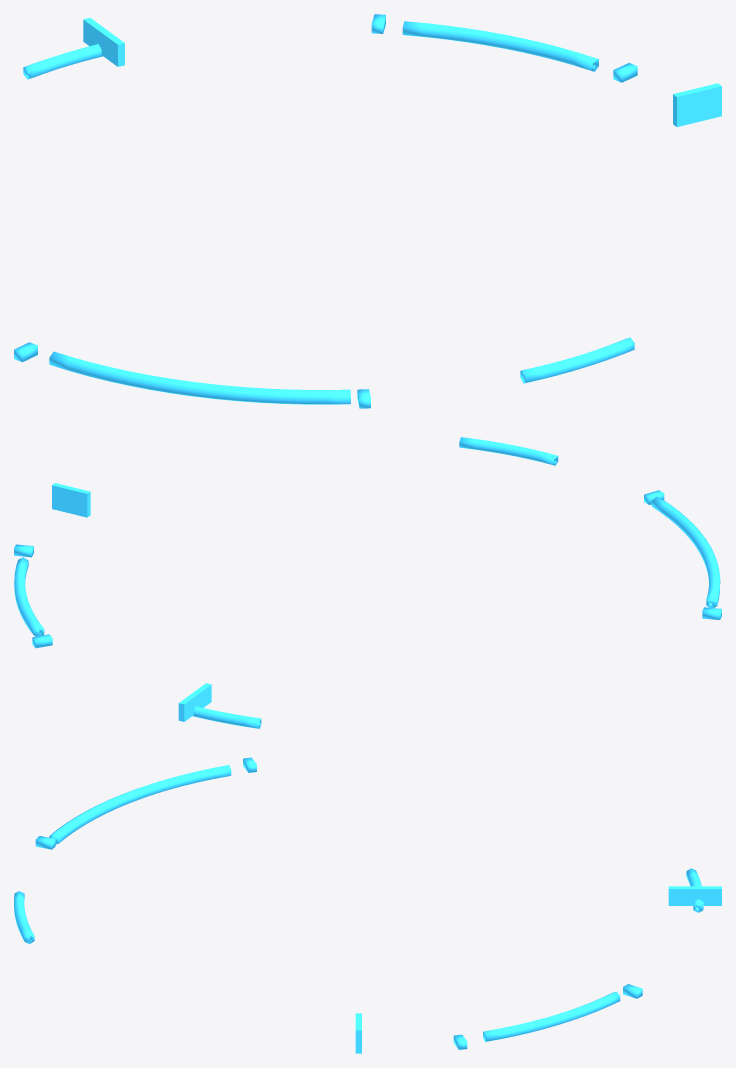
File: jarvis_scanner_arc.glb
3 views of the same model, one above another, from view 1: azimuth 30°, elevation 25°; view 2: azimuth 150°, elevation 25°; view 3: azimuth 270°, elevation 25° (orthographic). The views are drawn at different scales.
Visible parts, largest first — view 1: JCC_ScannerArc; view 2: JCC_ScannerArc; view 3: JCC_ScannerArc.
Part boxes in pixels (left/top/right/bottom): JCC_ScannerArc: left=14, top=14, right=721, bottom=408; JCC_ScannerArc: left=14, top=437, right=721, bottom=728; JCC_ScannerArc: left=14, top=757, right=721, bottom=1053.
Size of the model in its own units: 31 by 1.4 by 31.78.
